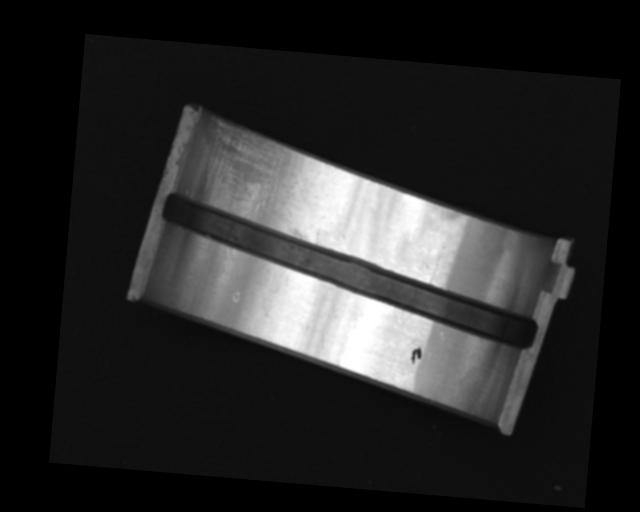blot: (408, 346, 424, 366)
bruise: (231, 290, 242, 303)
gap: (154, 195, 546, 350)
nick: (430, 244, 446, 287)
scratch: (194, 114, 319, 241)
